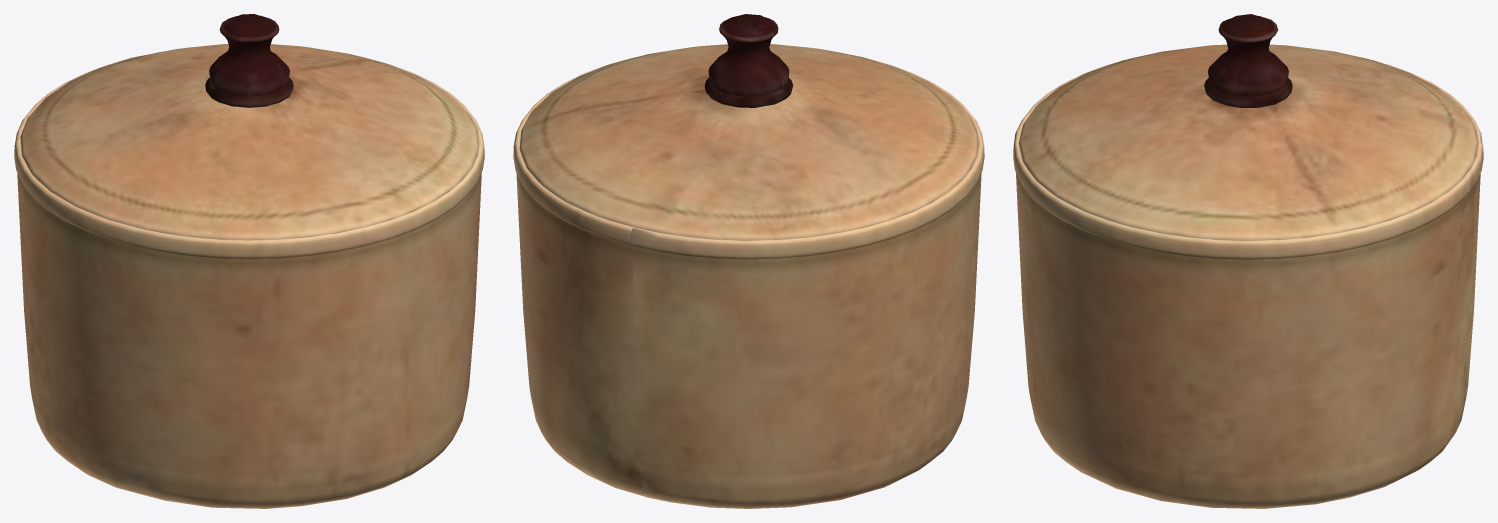
File: brass_pot_01.glb
3 views of the same model, side by side, from view 1: azimuth 30°, elevation 25°; view 2: azimuth 150°, elevation 25°; view 3: azimuth 270°, elevation 25° (orthographic).
Parts seen in each view (by area): view 1: brass_pot_01; view 2: brass_pot_01; view 3: brass_pot_01.
Boxes of the visible parts, x1=… form: brass_pot_01: x1=14, y1=14, x2=484, y2=508; brass_pot_01: x1=513, y1=14, x2=984, y2=508; brass_pot_01: x1=1013, y1=14, x2=1483, y2=508.
Bounding box in the file's own units: 0.3019 × 0.2909 × 0.3017.
1 material, 1 textured.
